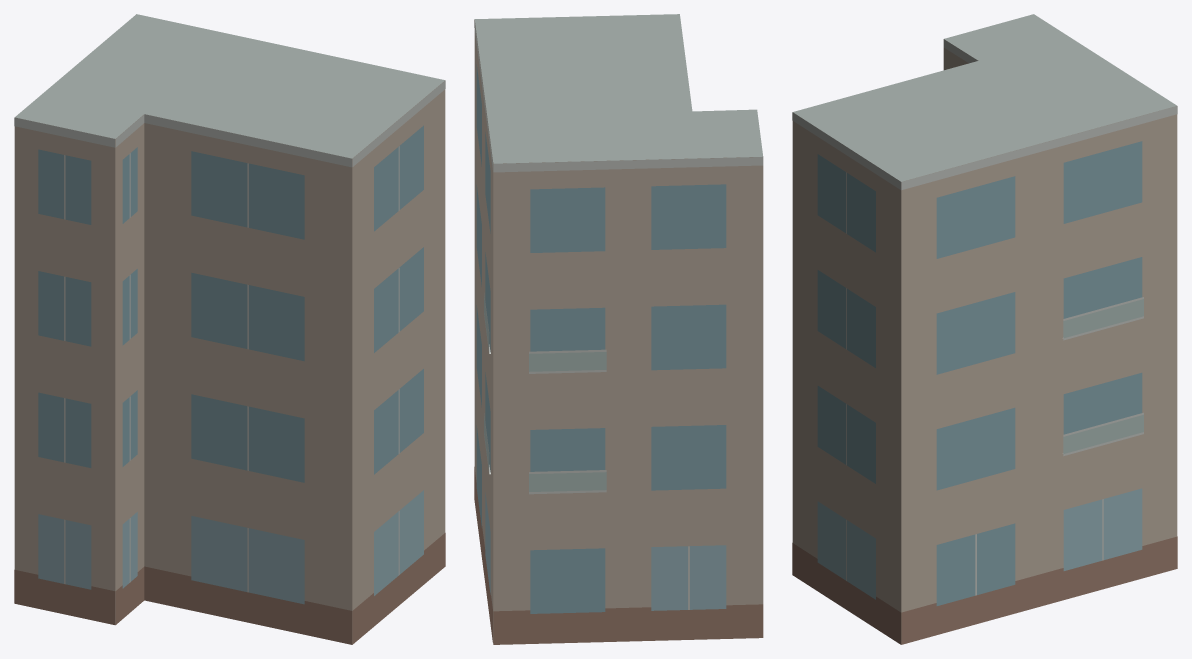
The model's file is survey-upis-32504034.glb.
The picture shows the model from 3 angles, left to right: view 1: azimuth 30°, elevation 25°; view 2: azimuth 150°, elevation 25°; view 3: azimuth 270°, elevation 25°; orthographic projection. The views are drawn at different scales.
Visible parts, largest first — view 1: survey-upis-32504034.tmp; view 2: survey-upis-32504034.tmp; view 3: survey-upis-32504034.tmp.
Part boxes in pixels (box(x1,y1,x2,y2)): survey-upis-32504034.tmp: box(14, 14, 445, 644); survey-upis-32504034.tmp: box(474, 14, 763, 644); survey-upis-32504034.tmp: box(792, 14, 1177, 644).
Bounding box in the file's own units: 10.43 × 13.4 × 10.1.
